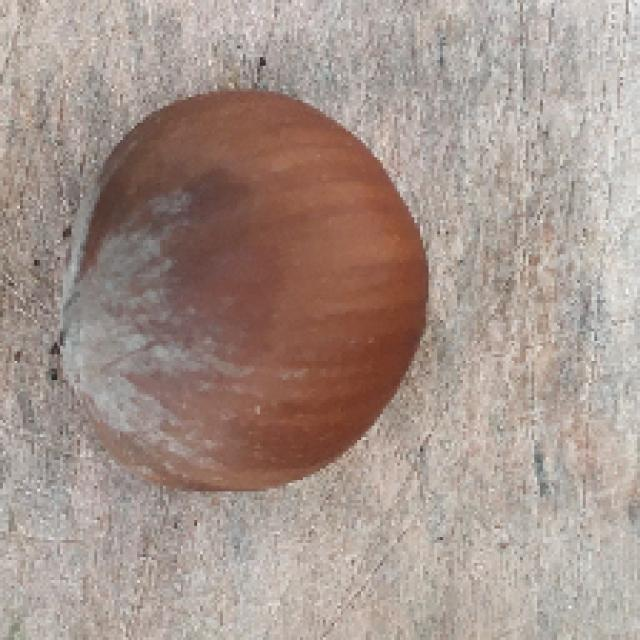damagedHazelnut: (55, 82, 438, 495)
